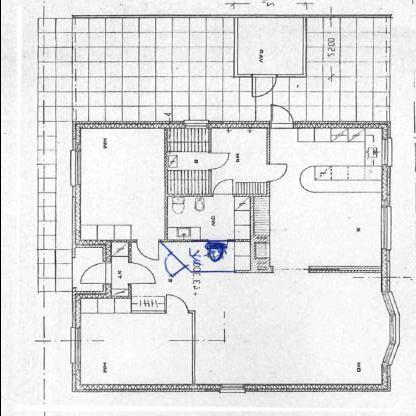door: (78, 259, 114, 286), (126, 259, 158, 286), (247, 71, 277, 99), (266, 103, 294, 131), (164, 251, 188, 281), (132, 238, 159, 264), (162, 292, 191, 315), (210, 176, 234, 198), (207, 149, 231, 171), (267, 161, 288, 184)
window: (376, 200, 395, 255), (65, 324, 86, 367), (212, 376, 250, 396), (68, 145, 84, 189), (381, 135, 395, 169), (178, 119, 209, 133)
